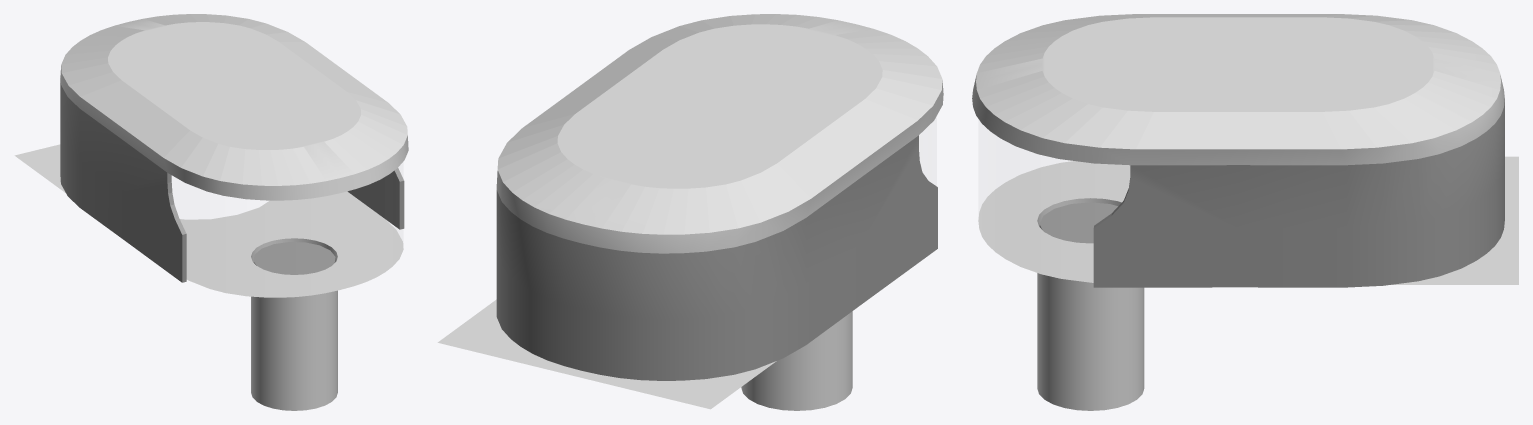
The model's file is SM_Cockpitv6.fbx.
The picture shows the model from 3 angles, left to right: view 1: azimuth 30°, elevation 25°; view 2: azimuth 150°, elevation 25°; view 3: azimuth 270°, elevation 25°; orthographic projection. The views are drawn at different scales.
Parts seen in each view (by area): view 1: Body, Floor, Elevator; view 2: Body, Floor; view 3: Body, Floor, Elevator.
Boxes of the visible parts, bbox=[...] form: Body: bbox=[60, 14, 408, 282]; Floor: bbox=[14, 144, 403, 410]; Elevator: bbox=[253, 242, 335, 274]; Body: bbox=[496, 14, 943, 380]; Floor: bbox=[437, 299, 852, 410]; Body: bbox=[972, 14, 1504, 287]; Floor: bbox=[978, 156, 1518, 410]; Elevator: bbox=[1039, 202, 1117, 243].
Size of the model in its own units: 8.34 by 9.29 by 14.22.
Materials: 2 (1 with a texture image).
